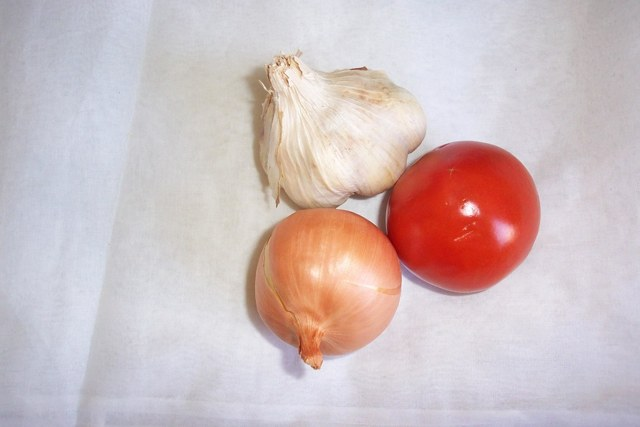tomato: (385, 140, 541, 293)
